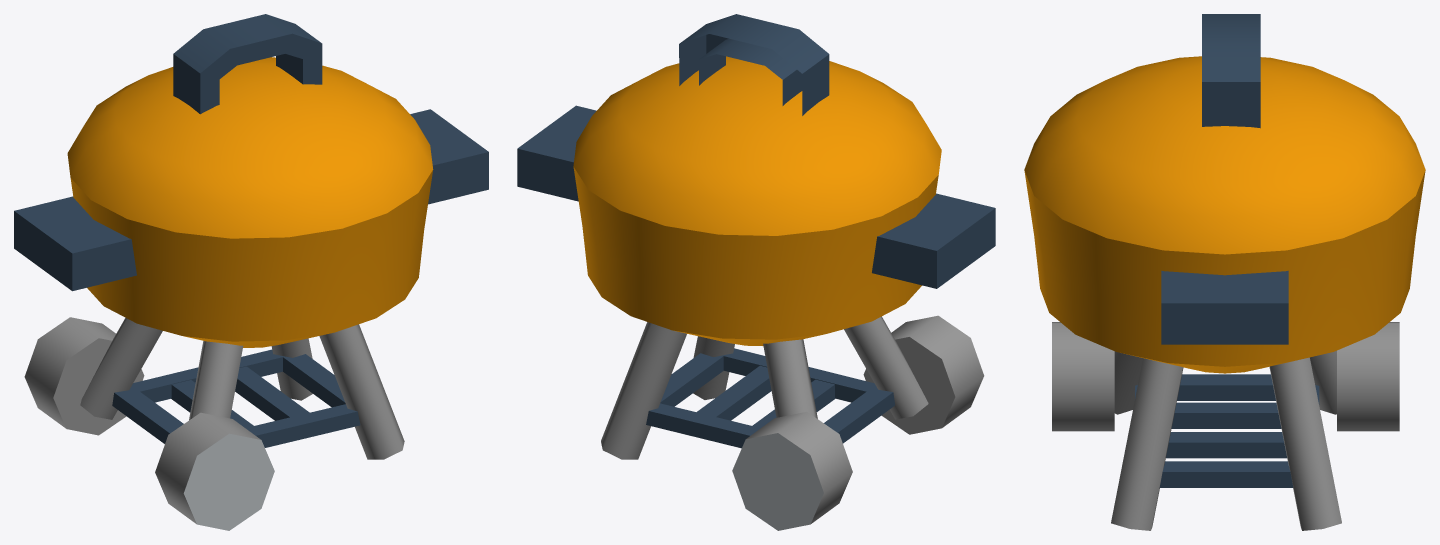
The model's file is bbq_s02.FBX.
The picture shows the model from 3 angles, left to right: view 1: azimuth 30°, elevation 25°; view 2: azimuth 150°, elevation 25°; view 3: azimuth 270°, elevation 25°; orthographic projection. The views are drawn at different scales.
Visible parts, largest first — view 1: bbq_s02; view 2: bbq_s02; view 3: bbq_s02.
Boxes of the visible parts, left/top/right/bottom form: bbq_s02: left=14, top=14, right=488, bottom=530; bbq_s02: left=517, top=14, right=995, bottom=530; bbq_s02: left=1024, top=14, right=1425, bottom=530.
Size of the model in its own units: 171 by 131 by 163.
1 material, 1 textured.
